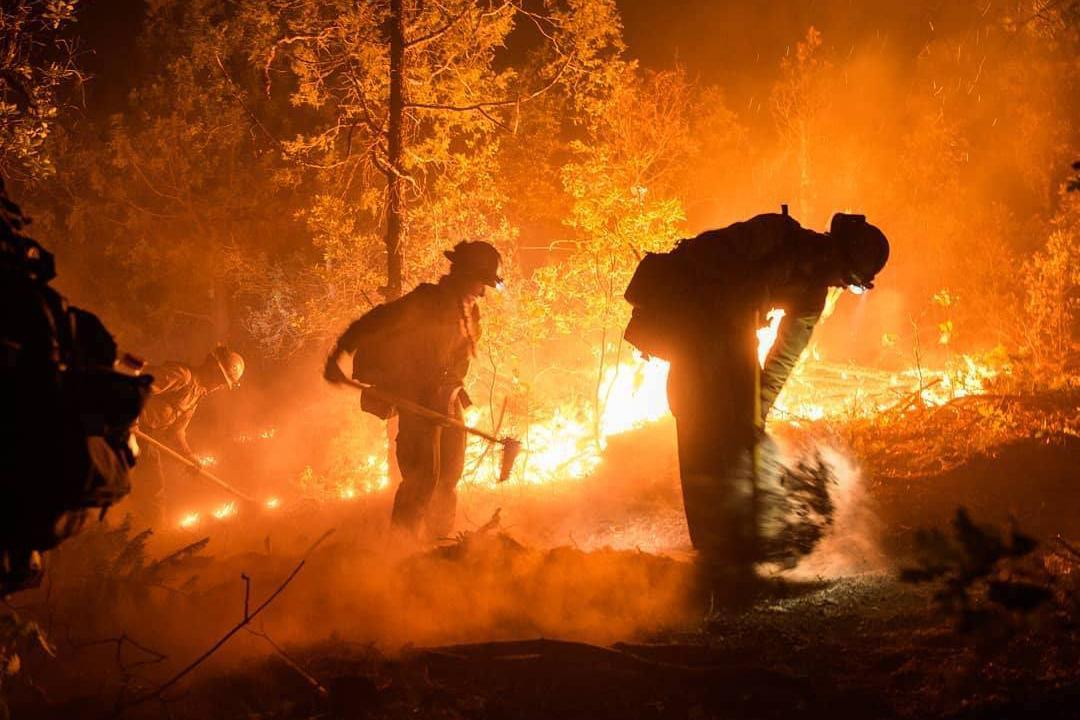fire: (462, 298, 1080, 541), (169, 441, 383, 533)
